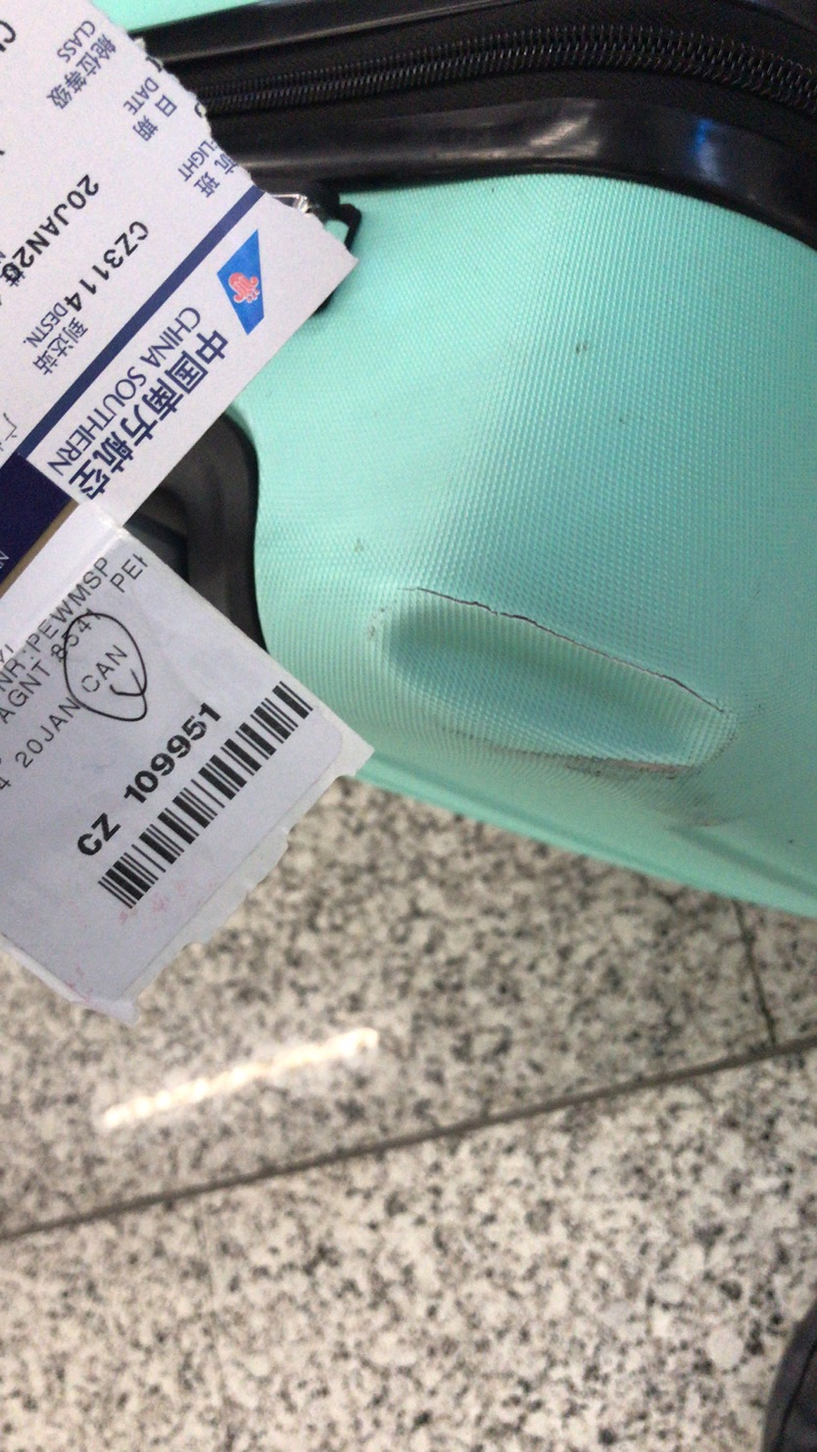rupture: (375, 606, 710, 764)
scratch: (399, 585, 729, 718)
